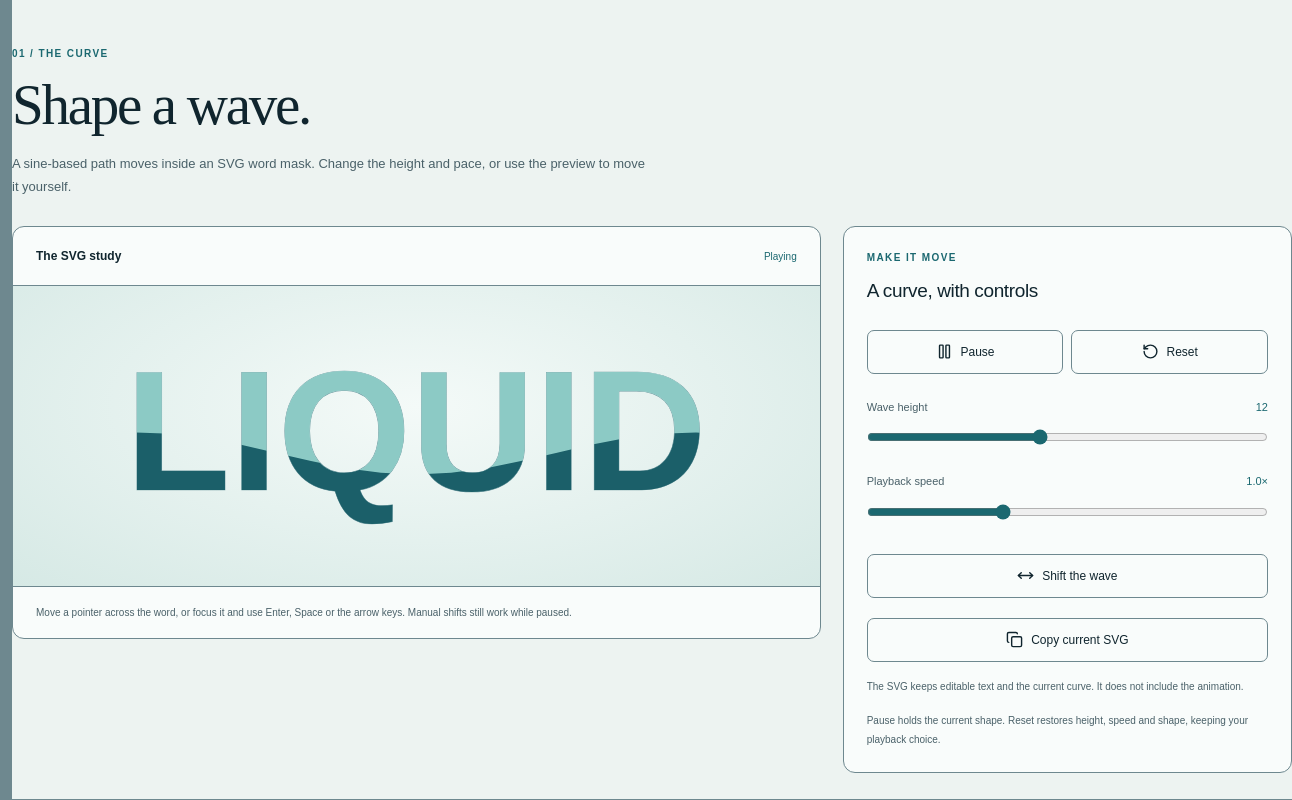
Test: connects real wave controls to the paused shape and restores defaults
Click the button "Pause" at (965, 352), box [867,330,1063,374]
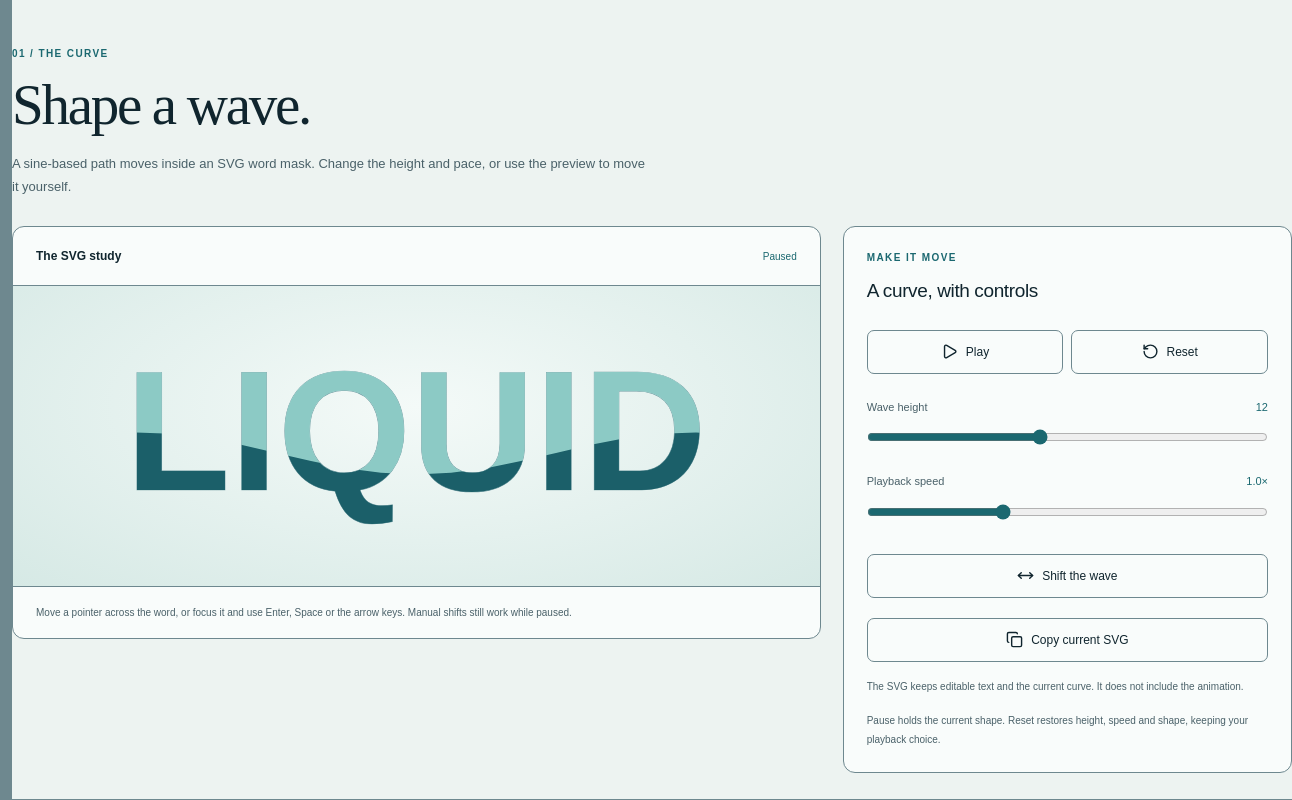
Click the button "Shift the wave" at (1067, 576), box [867,554,1268,598]
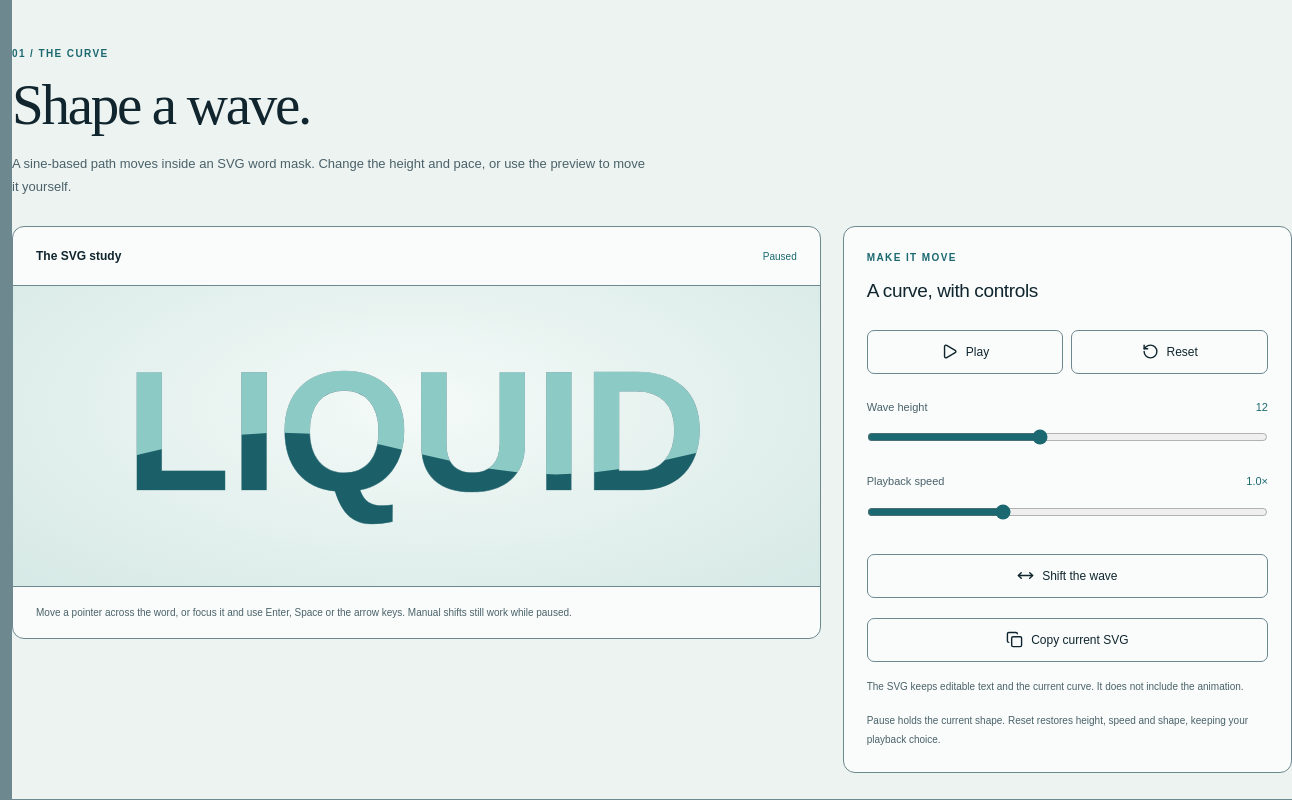
Set the slider labelled "Wave height" to "25" at (1219, 438), box [867,416,1268,460]
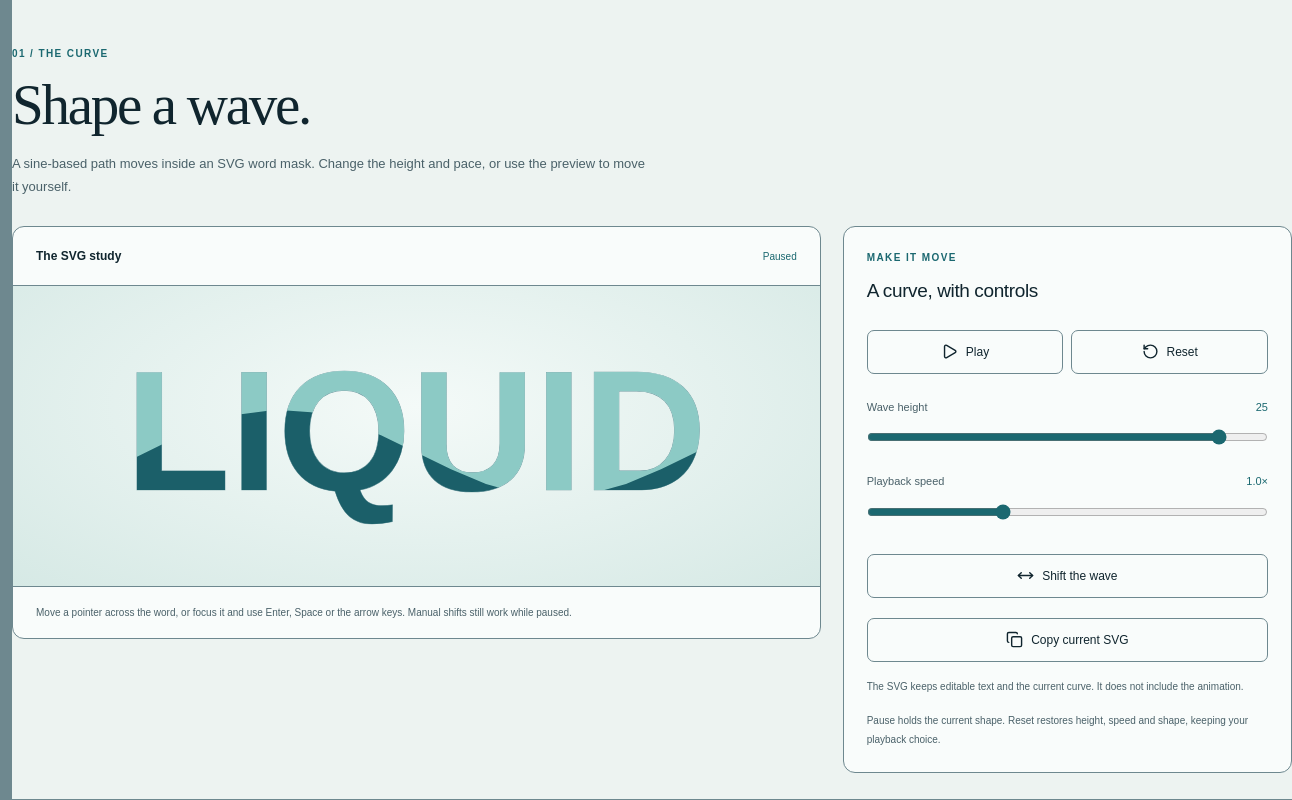
Click the button "Reset" at (1170, 352), box [1071,330,1268,374]
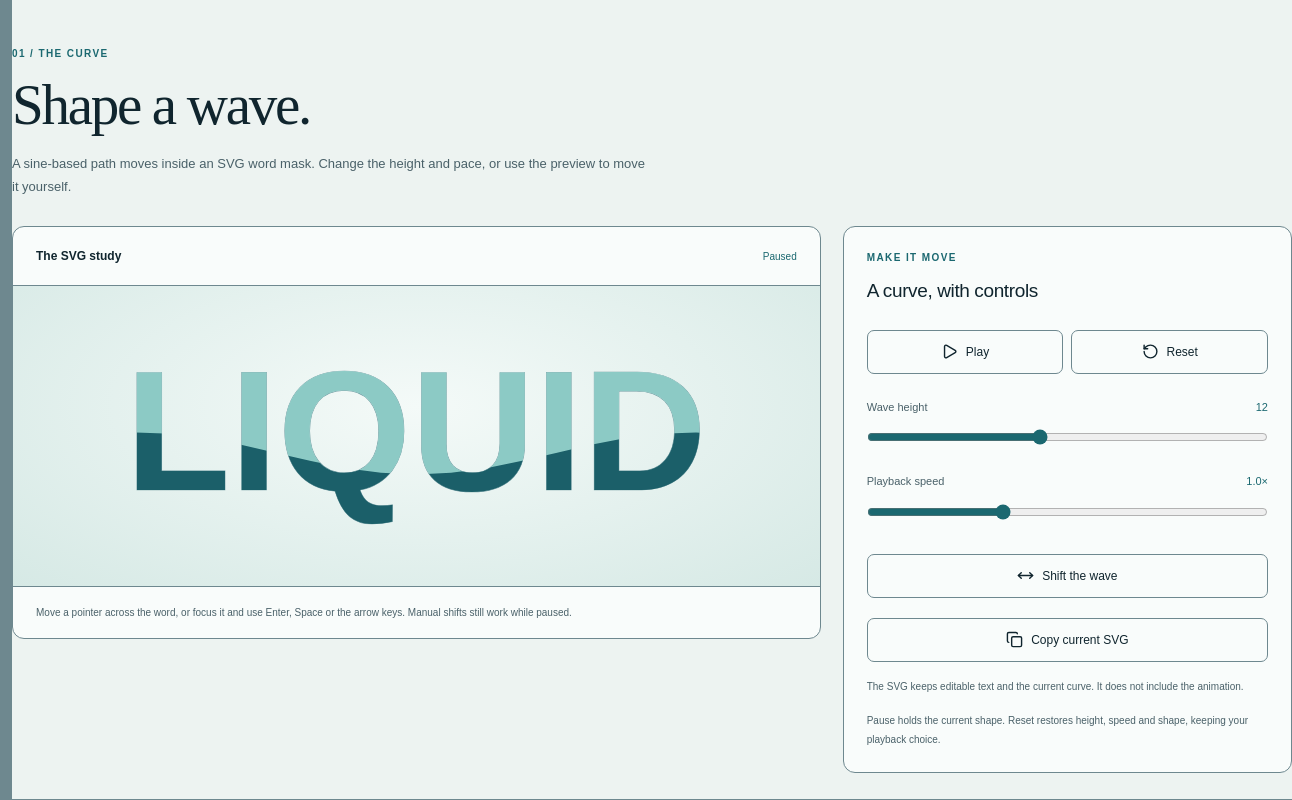
expect the button "Play" is shown: met, box [867,330,1063,374]
expect the slider labelled "Wave height" holds "12": met, box [867,416,1268,460]
